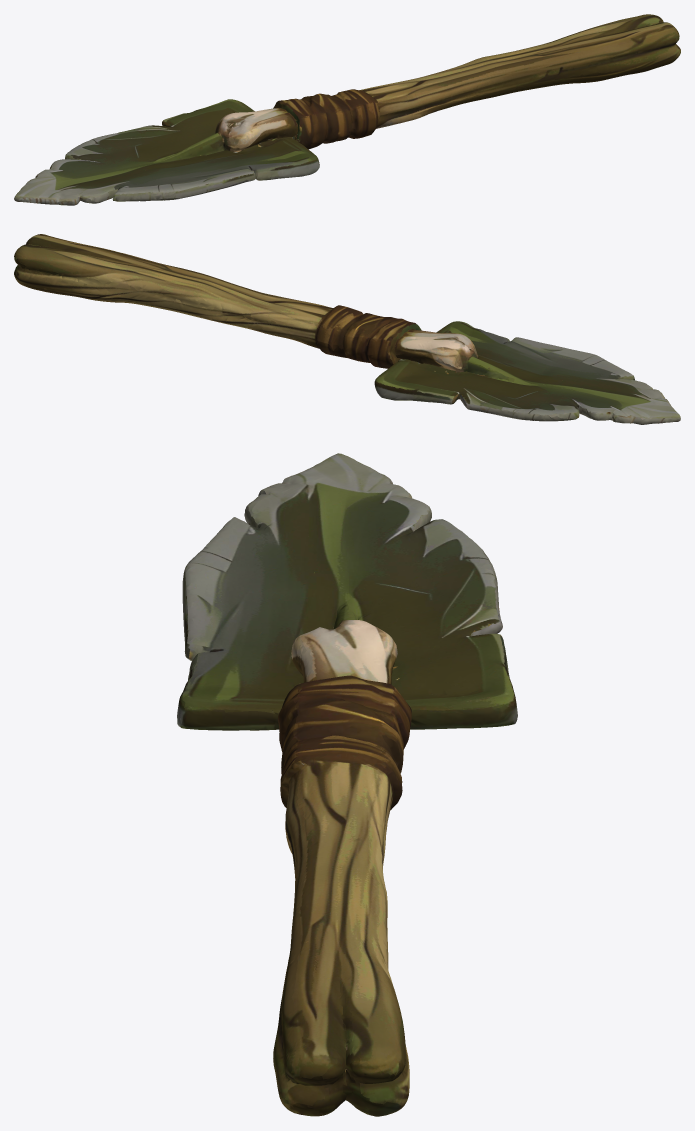
Rendered from tool_shovel.glb.
3 renders of one model, top to bottom at view 1: azimuth 30°, elevation 25°; view 2: azimuth 150°, elevation 25°; view 3: azimuth 270°, elevation 25°, orthographic. The views are drawn at different scales.
Parts seen in each view (by area): view 1: tool_shovel; view 2: tool_shovel; view 3: tool_shovel.
Part boxes in pixels (bbox=[...]): tool_shovel: bbox=[14, 14, 680, 205]; tool_shovel: bbox=[14, 234, 680, 424]; tool_shovel: bbox=[177, 453, 517, 1116].
Size of the model in its own units: 0.9 by 0.0553 by 0.202.
Materials: 1 (1 with a texture image).
